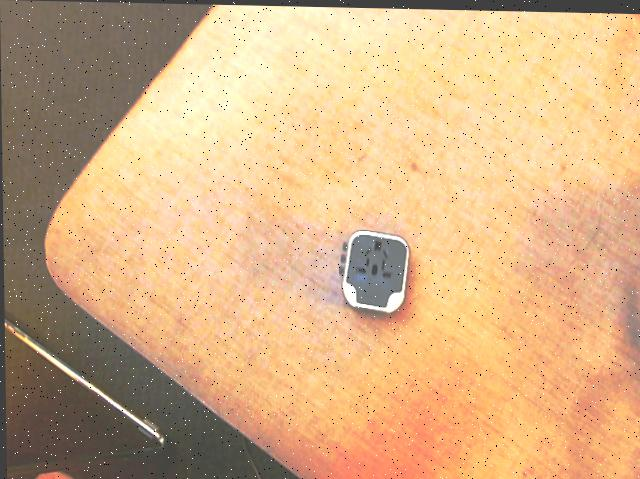adapter: (338, 227, 408, 312)
